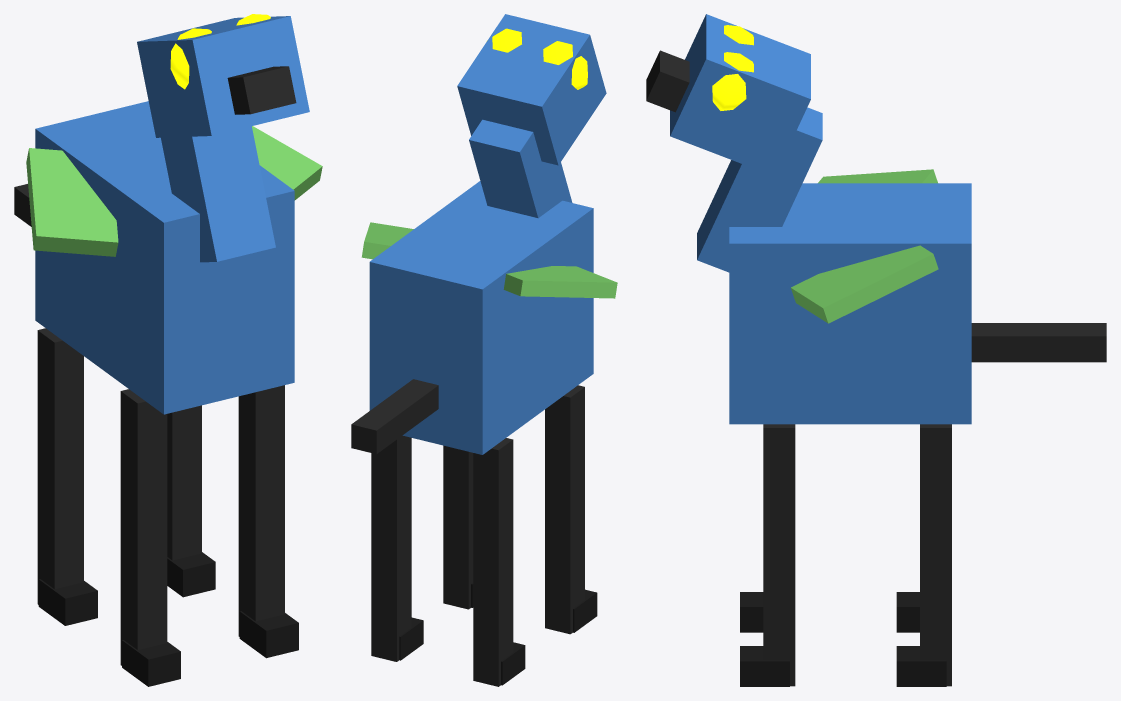
Rendered from OrvanPappyA.glb.
3 views of the same model, side by side, from view 1: azimuth 30°, elevation 25°; view 2: azimuth 150°, elevation 25°; view 3: azimuth 270°, elevation 25° (orthographic). The views are drawn at different scales.
Visible parts, largest first — view 1: OrvanPappyBody; view 2: OrvanPappyBody; view 3: OrvanPappyBody.
Boxes of the visible parts, bbox=[...] form: OrvanPappyBody: bbox=[14, 14, 322, 686]; OrvanPappyBody: bbox=[351, 14, 617, 686]; OrvanPappyBody: bbox=[646, 14, 1106, 686].
Bounding box in the file's own units: 0.4373 × 0.9542 × 0.6469.
